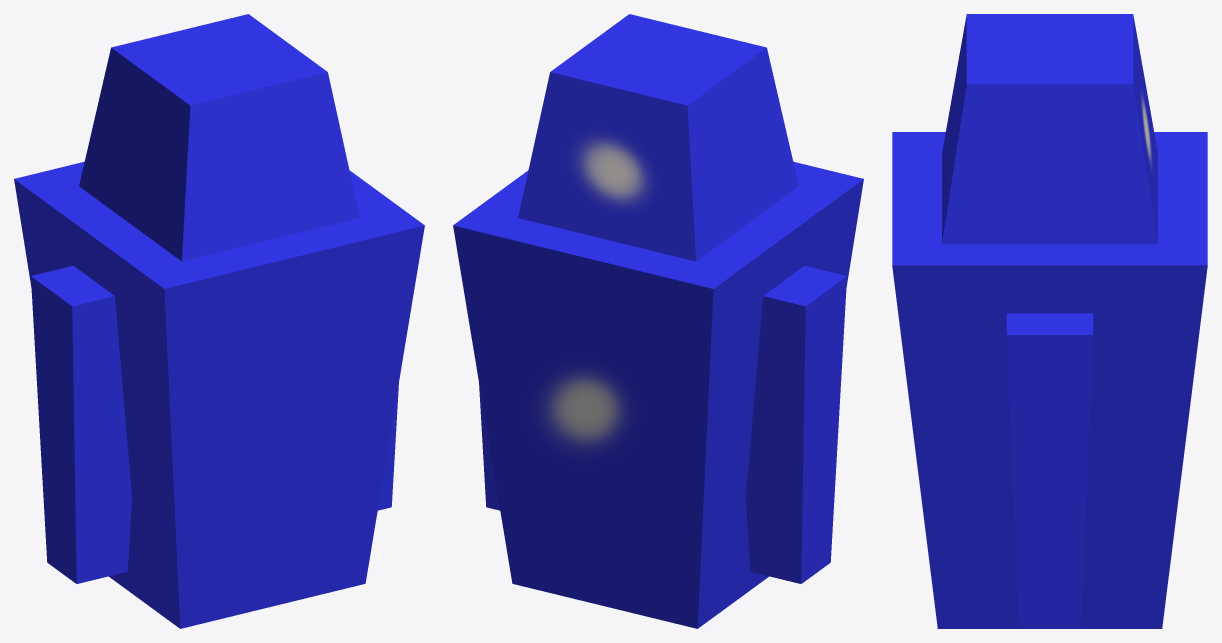
The model's file is enemy.glb.
3 renders of one model, left to right at view 1: azimuth 30°, elevation 25°; view 2: azimuth 150°, elevation 25°; view 3: azimuth 270°, elevation 25°, orthographic. The views are drawn at different scales.
Parts seen in each view (by area): view 1: Cube; view 2: Cube; view 3: Cube.
Part boxes in pixels (x1,y1,x2,y2): Cube: [14, 14, 424, 628]; Cube: [453, 14, 863, 628]; Cube: [892, 14, 1207, 628].
Bounding box in the file's own units: 1.93 × 2.78 × 1.49.
Materials: 1 (1 with a texture image).
